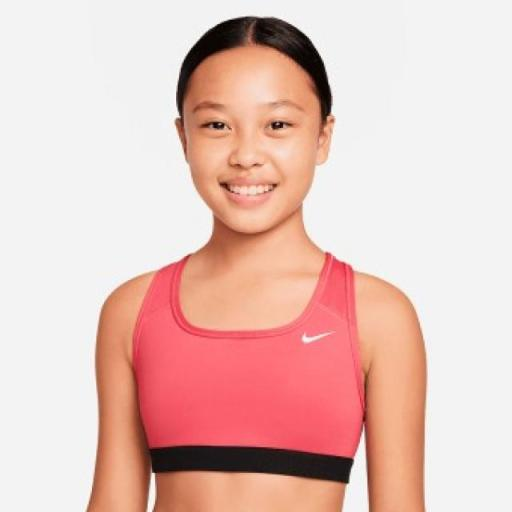Nike: (296, 327, 342, 345)
